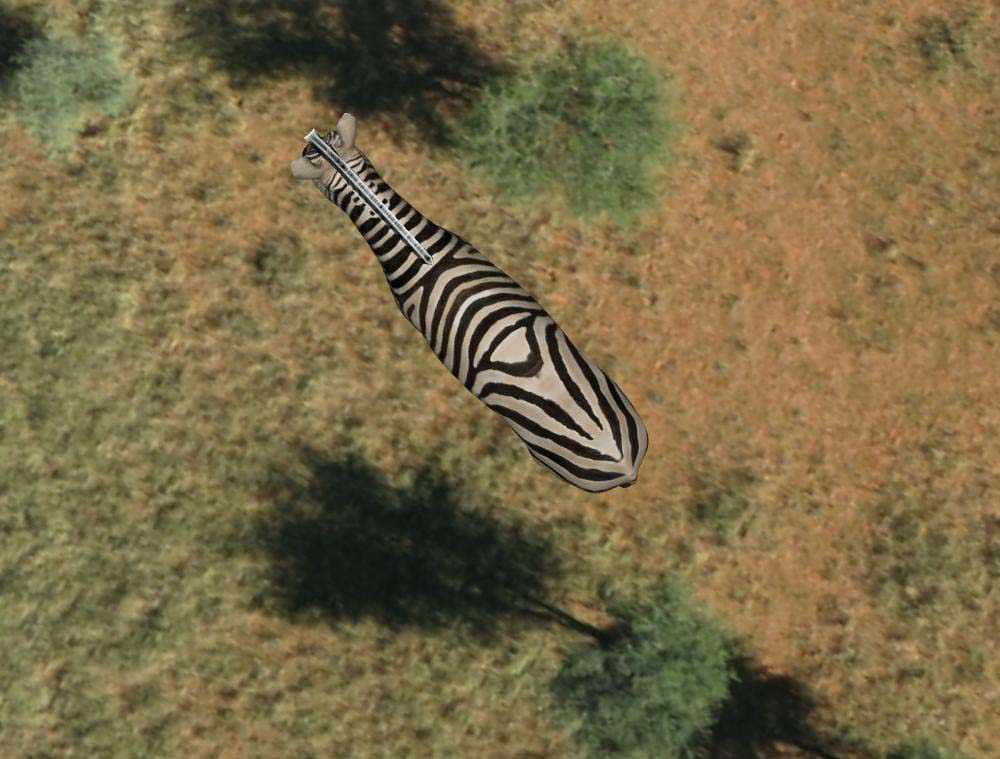zebra: (290, 107, 650, 496)
